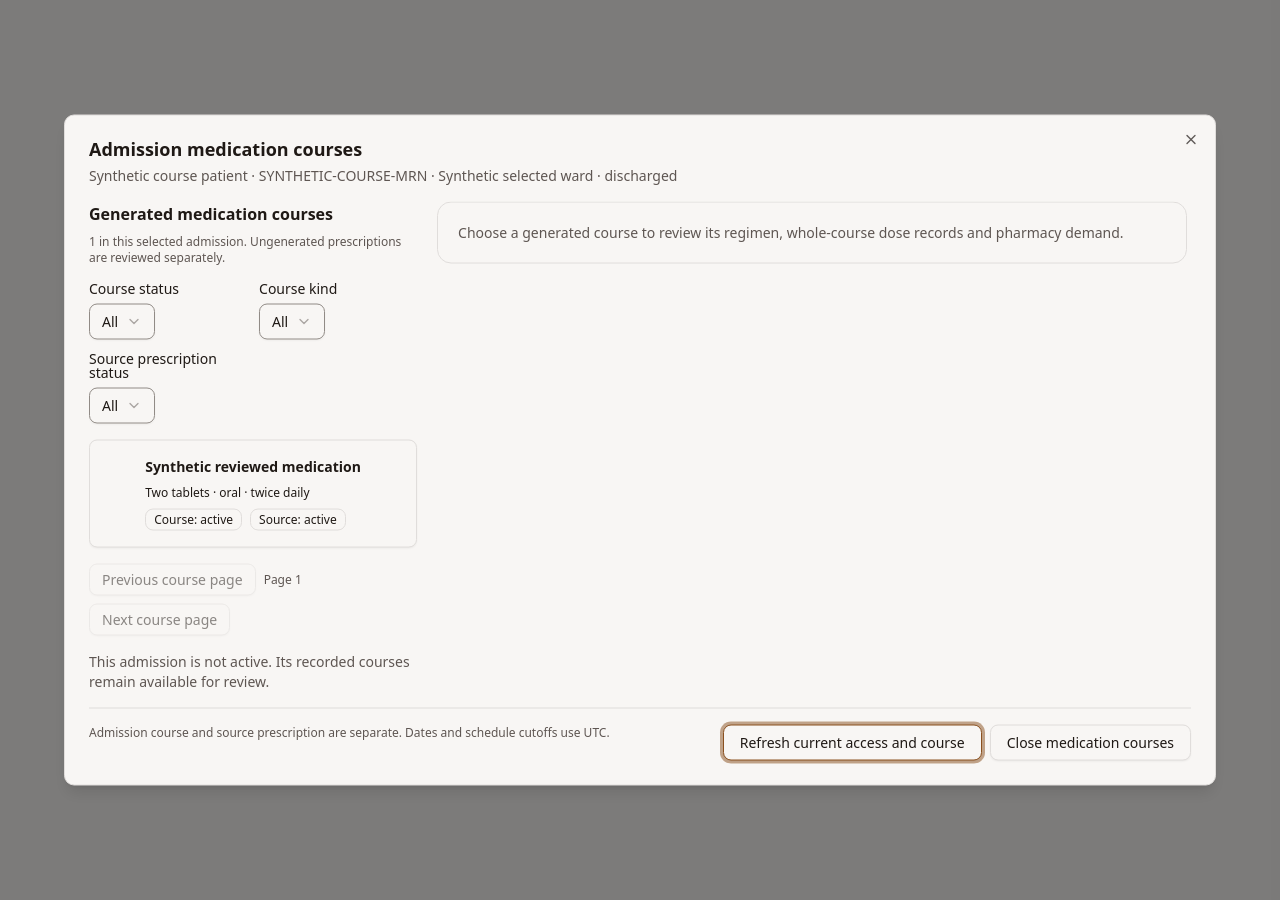
Scenario: reviews the selected historical stay, whole-course totals and null physical evidence without following the current admission
This screenshot has width=1280, height=900.
Step 1. Click the button "Synthetic reviewed medication" → {"x": 253, "y": 494}, box [89,440,417,548]
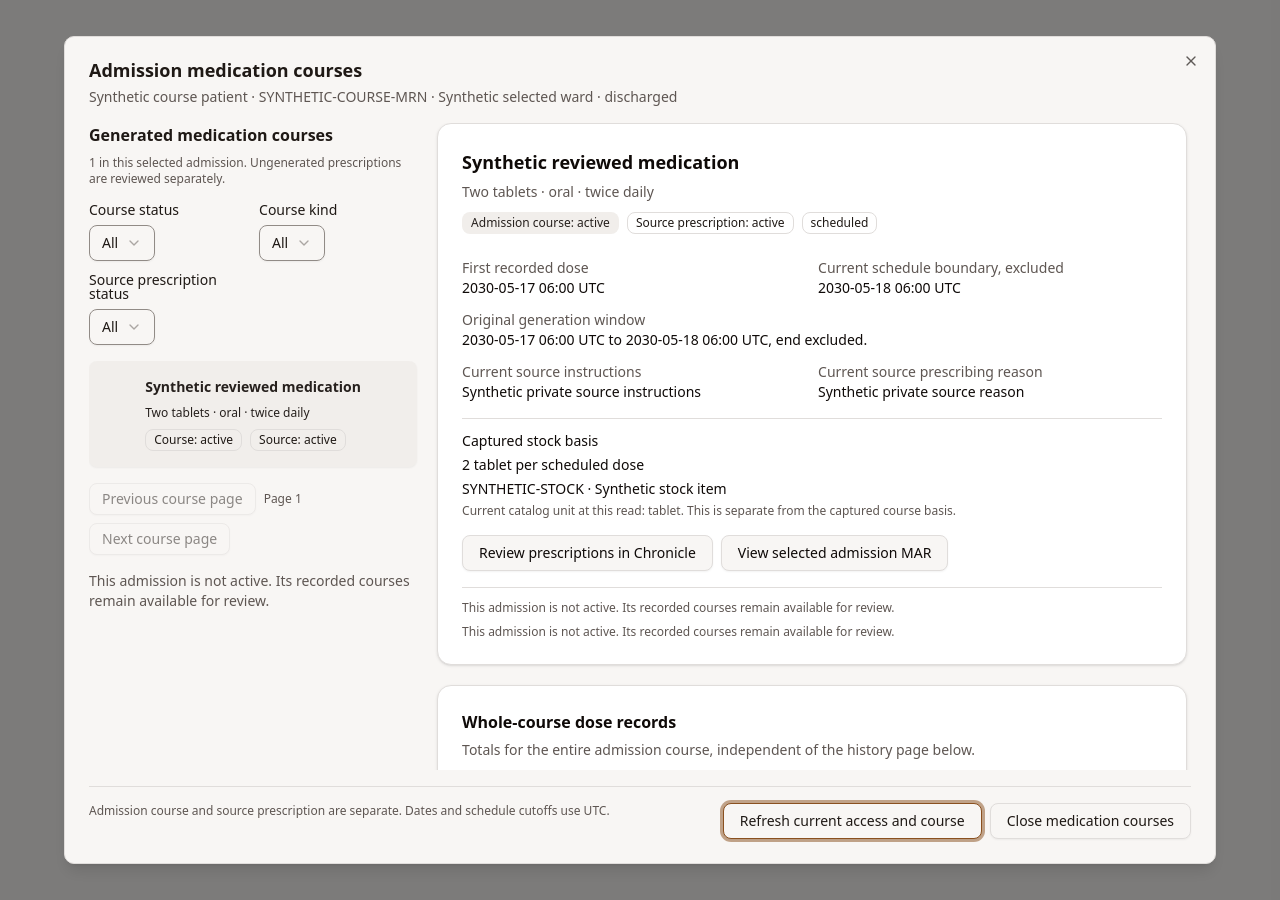
Expected: the text "SYNTHETIC-COURSE-MRN" is shown, [259,87,427,106]
Result: the text "Synthetic private source instructions" is shown at [462,382,701,401]
